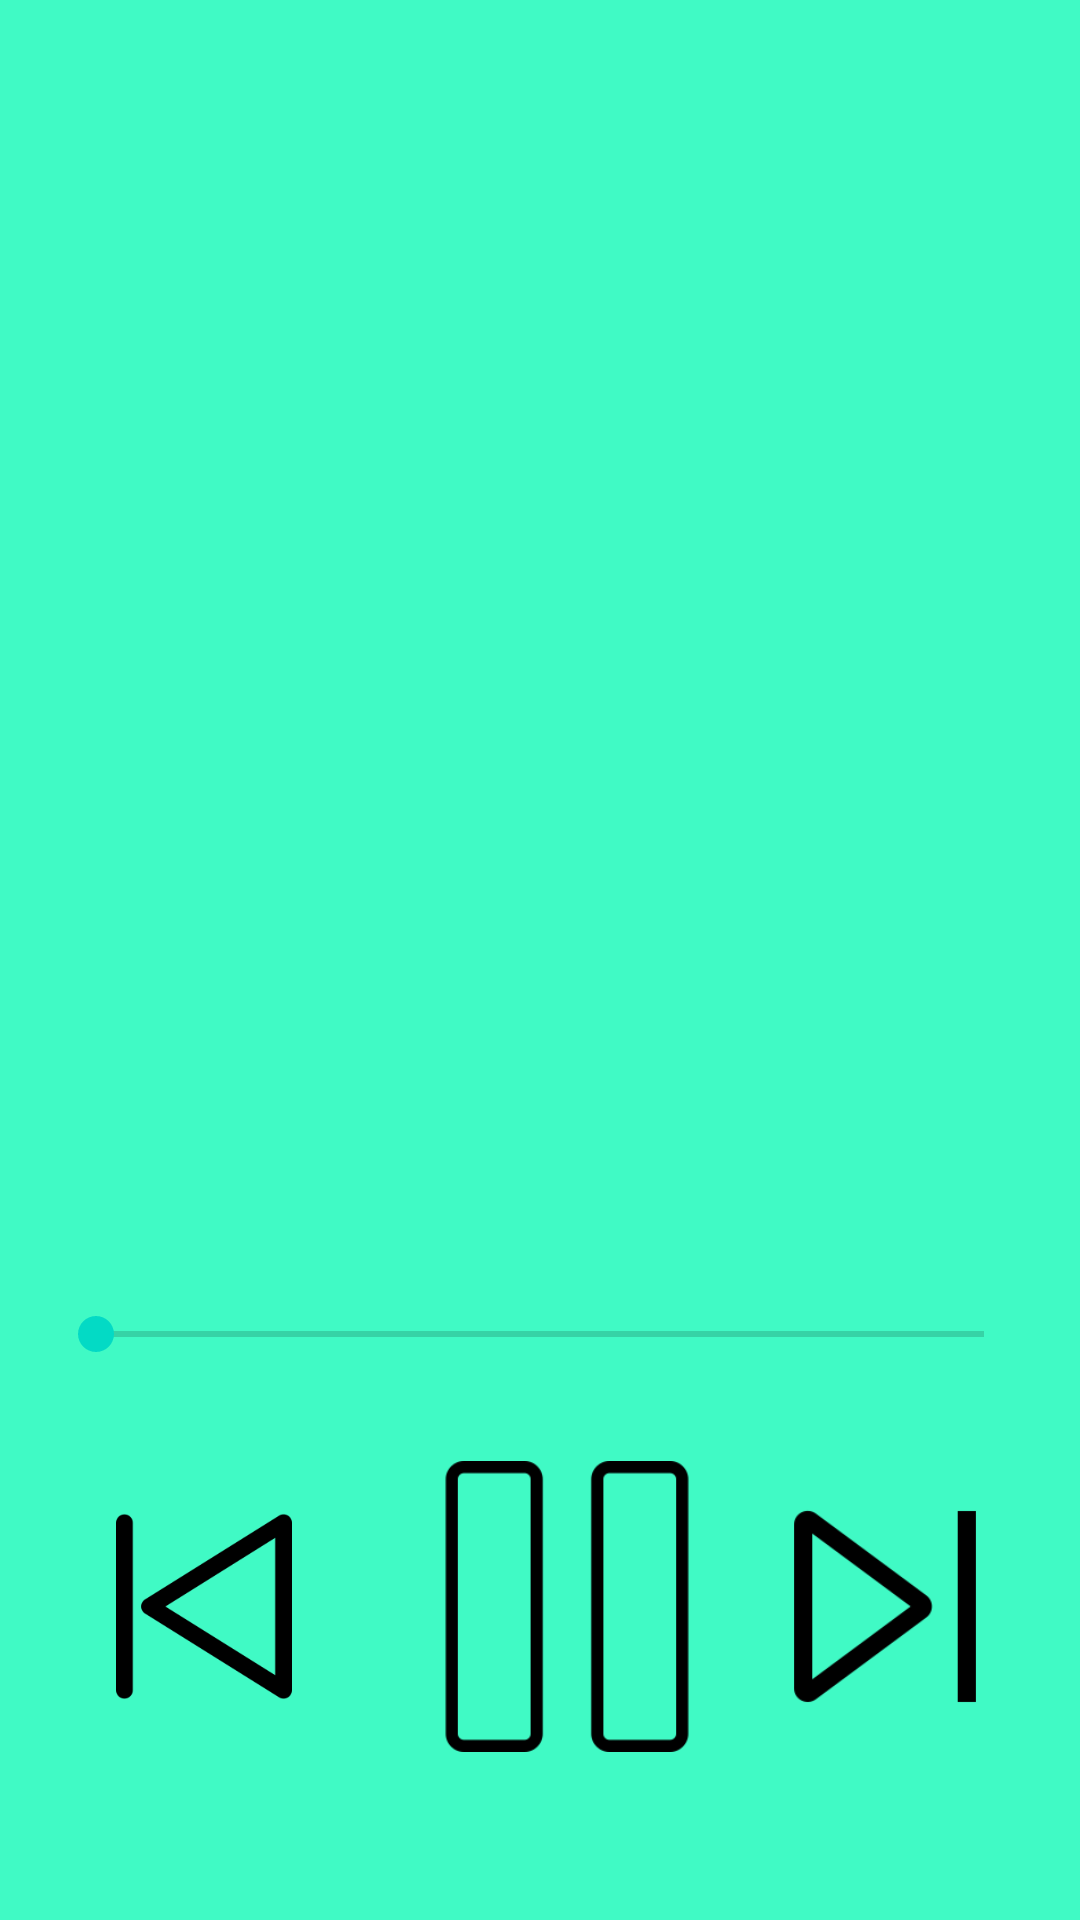

Screen size 1080 × 1920. Icon name, then its center in pixels as (x,y):
next: (885,1606)
Pause: (567,1606)
previous: (204,1606)
